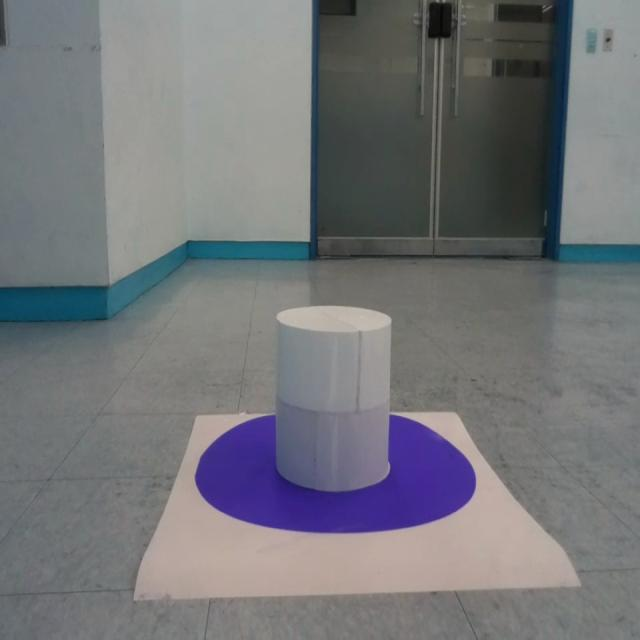cylinder: (274, 305, 393, 492)
